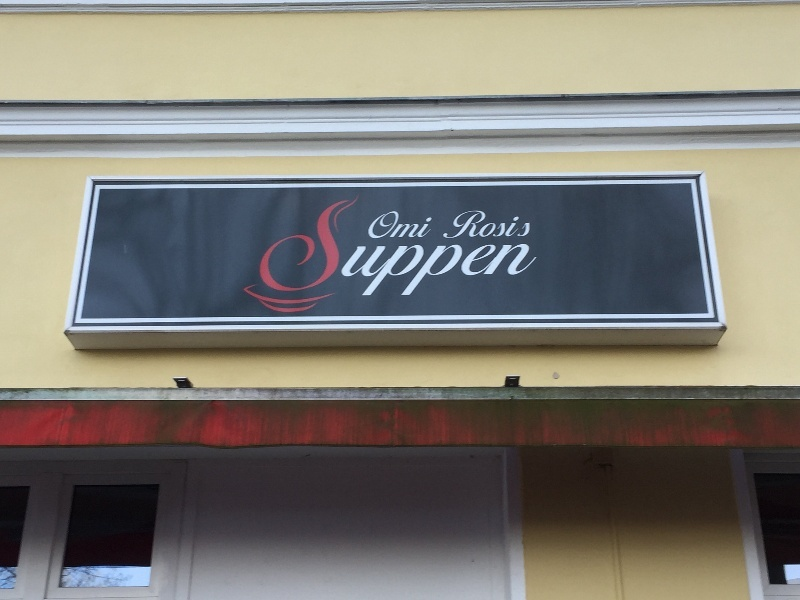text: (273, 194, 288, 294), (289, 194, 304, 294), (305, 194, 320, 294), (321, 194, 336, 294), (337, 194, 352, 294), (353, 194, 363, 294), (369, 244, 384, 304), (385, 244, 400, 304), (401, 244, 416, 304), (417, 244, 432, 304), (433, 244, 448, 304), (449, 244, 464, 304), (465, 244, 480, 304), (481, 244, 496, 304), (497, 244, 512, 304), (513, 244, 528, 304), (357, 244, 368, 304), (529, 244, 540, 304), (465, 209, 480, 241), (481, 209, 496, 241), (497, 209, 512, 241), (513, 209, 528, 241), (385, 209, 400, 239), (401, 209, 416, 239), (417, 209, 432, 239), (268, 194, 272, 294), (529, 209, 533, 241), (380, 209, 384, 239), (433, 209, 436, 239), (462, 209, 464, 241)
